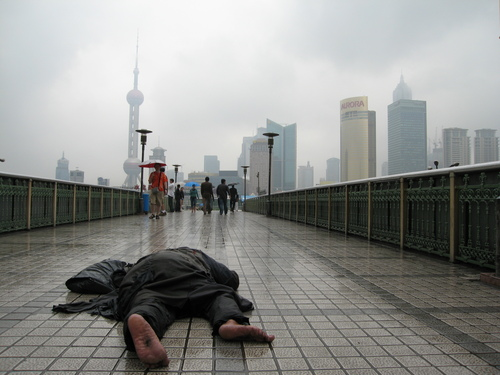collapsed: (9, 210, 399, 373)
